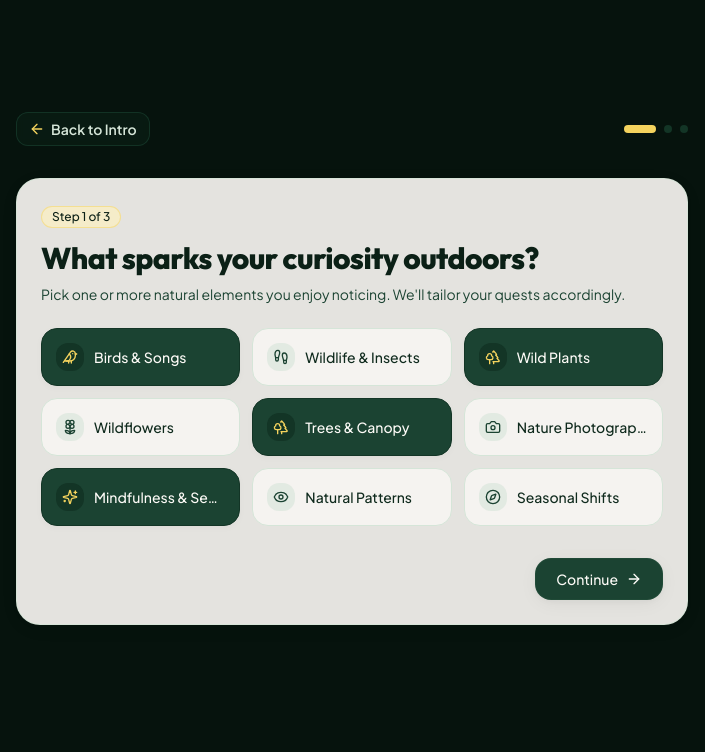
Component Rendering & UI Flows › Onboarding wizard displays interests and allows advancing steps
Expected: the heading "What sparks your curiosity outdoors?" is shown, x1=41 y1=238 x2=539 y2=276
Expected: the text "Wild Plants" is shown, x1=517 y1=346 x2=590 y2=366
Click the button "Continue".
click(599, 578)  # box x1=535 y1=558 x2=663 y2=600
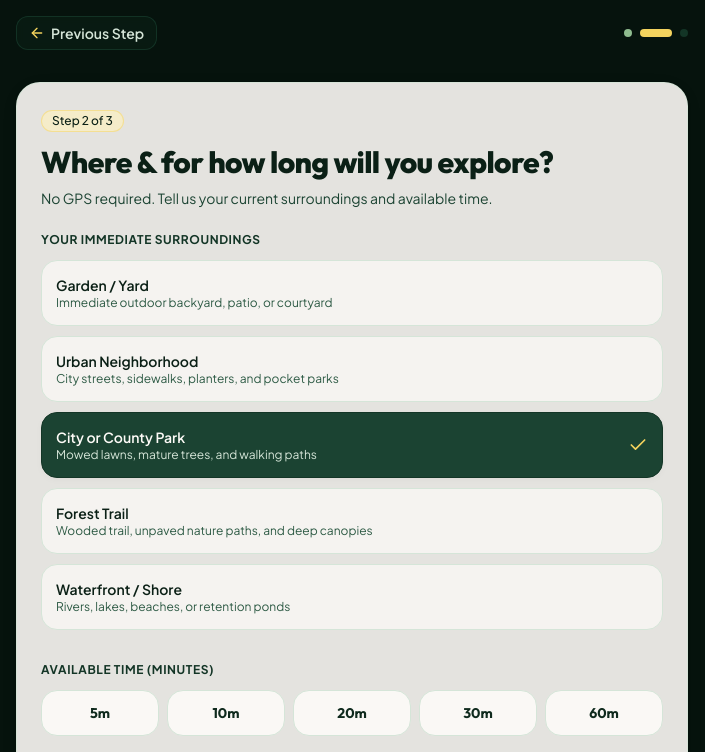
Expected: the heading "Where & for how long will you explore?" is shown, x1=41 y1=143 x2=553 y2=181
